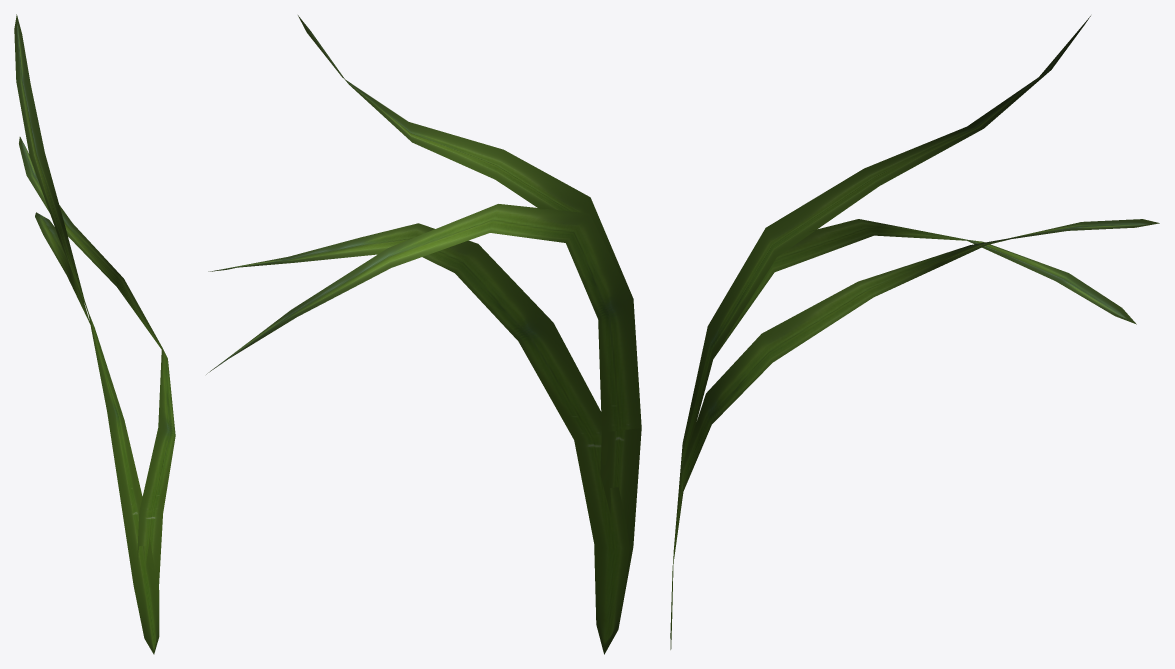
The model's file is Grass_Sprigs.glb.
3 views of the same model, side by side, from view 1: azimuth 30°, elevation 25°; view 2: azimuth 150°, elevation 25°; view 3: azimuth 270°, elevation 25° (orthographic). The views are drawn at different scales.
Visible parts, largest first — view 1: LongGrass_01, LongGrass_03, LongGrass_02; view 2: LongGrass_03, LongGrass_02, LongGrass_01; view 3: LongGrass_01, LongGrass_03, LongGrass_02.
Part boxes in pixels (x1,y1,x2,y2): LongGrass_01: (14,14,159,654); LongGrass_03: (19,137,175,629); LongGrass_02: (35,212,90,323); LongGrass_03: (208,223,629,654); LongGrass_02: (206,204,641,432); LongGrass_01: (298,15,641,627); LongGrass_01: (672,16,1090,581); LongGrass_03: (670,219,1159,649); LongGrass_02: (698,219,1136,413).
Bounding box in the file's own units: 0.0602 × 0.2946 × 0.1989.
Materials: 1 (1 with a texture image).
